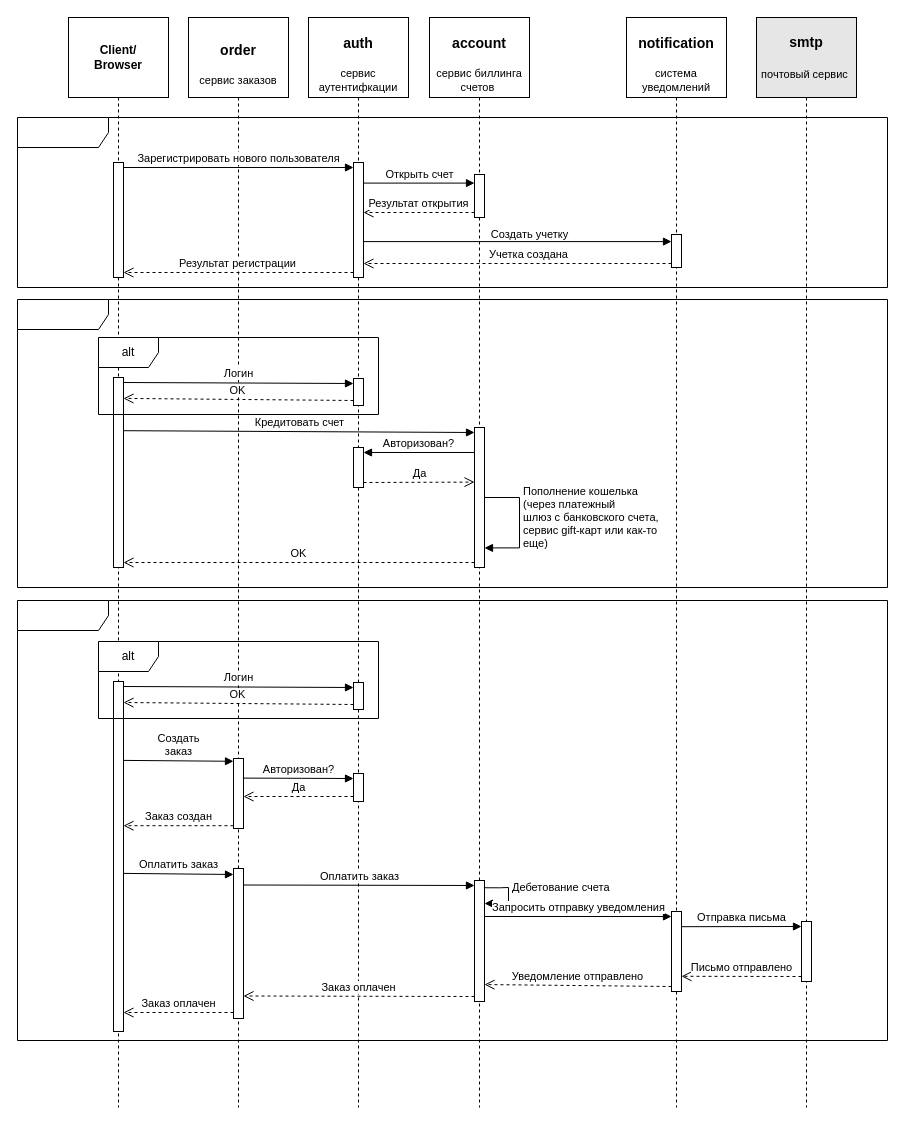
Image size: 905x1125. Some labels were removed from this diagram. Each missing label, with the centre of its shape:
заказ и оплата: the point at 452,820
пополнение кошелька: the point at 452,443
регистрация: the point at 452,202
